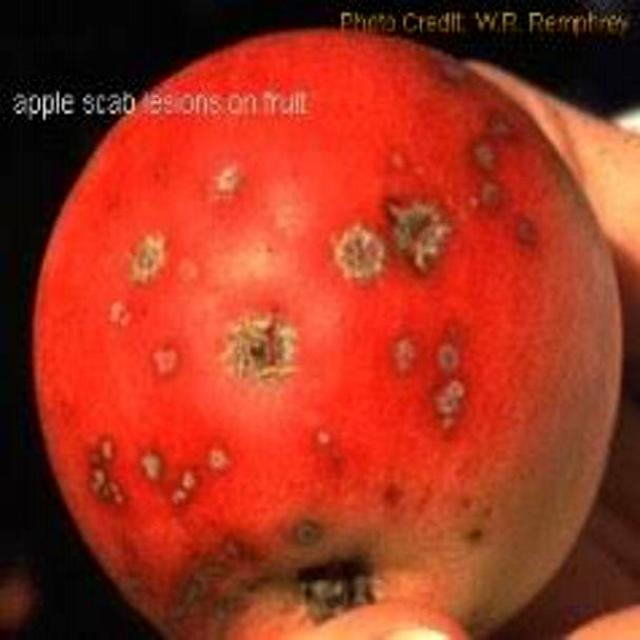SCAB: (17, 35, 591, 633)
